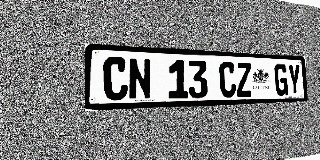1: (168, 59, 188, 99)
3: (188, 60, 207, 98)
C: (103, 57, 128, 101), (219, 61, 236, 97)
G: (274, 64, 288, 96)
N: (128, 58, 151, 100)
Y: (288, 64, 301, 95)
Z: (236, 62, 252, 97)
